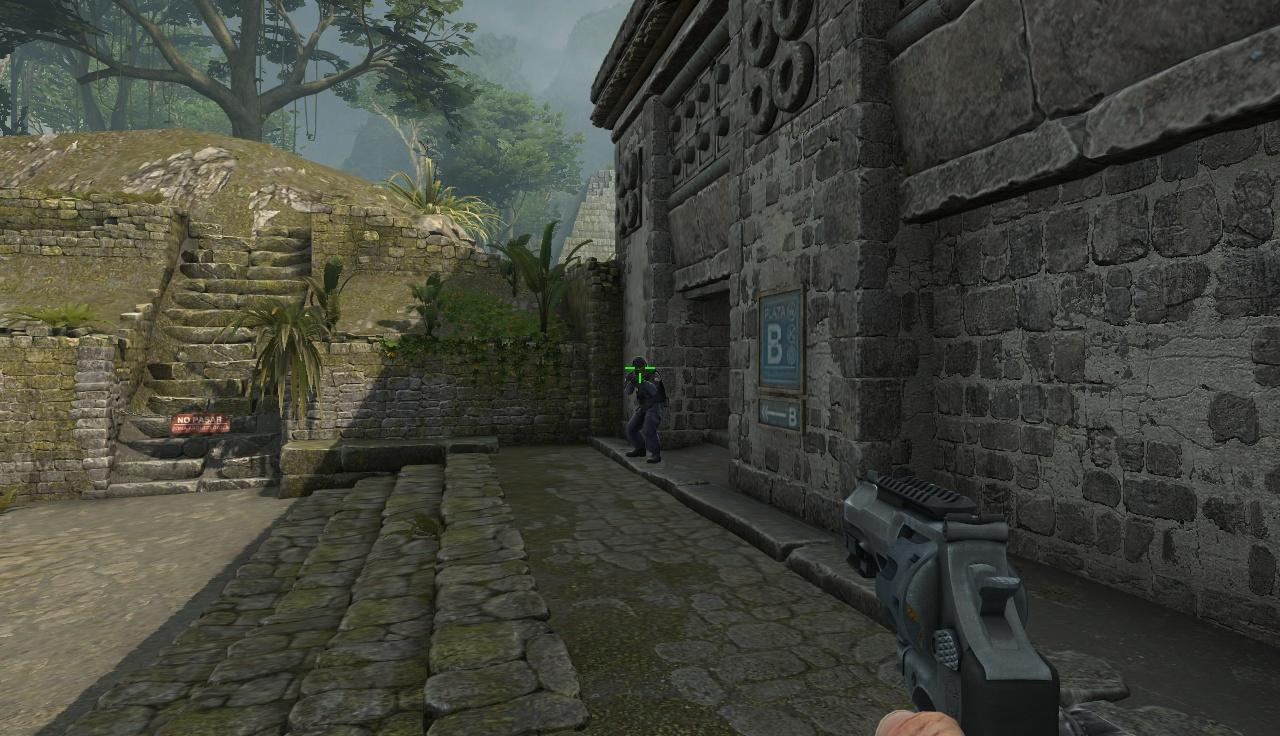ct: (624, 356, 661, 470)
cthead: (632, 357, 650, 378), (633, 357, 650, 378), (632, 358, 649, 379)
pistol: (832, 477, 1075, 736)
